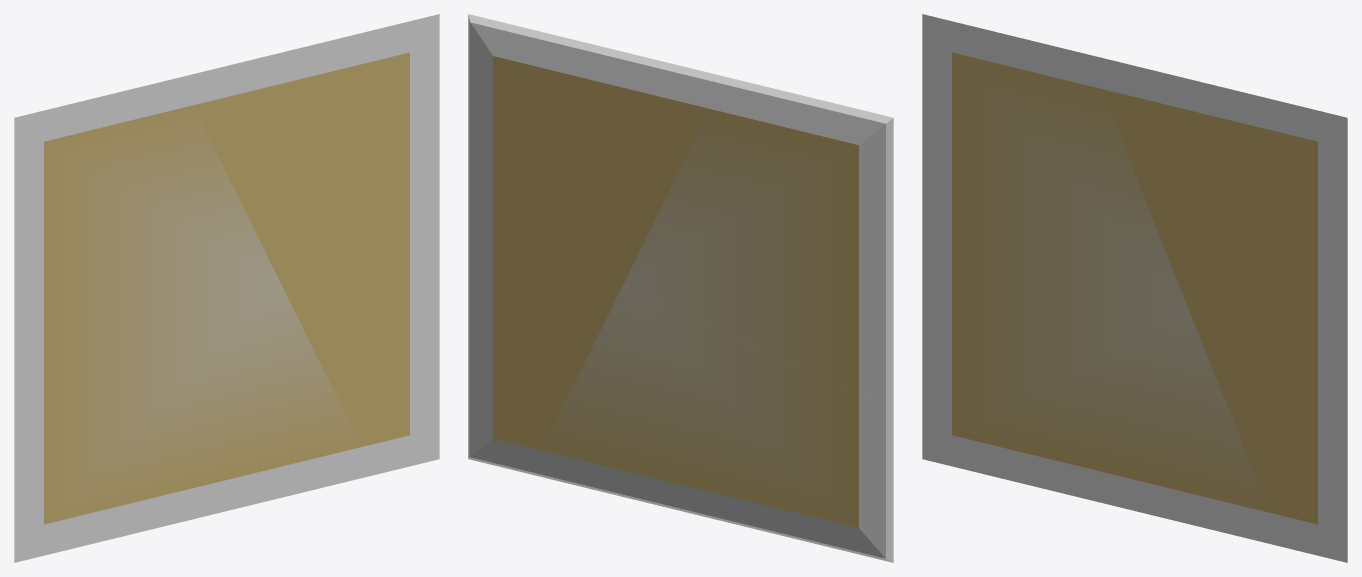
Rendered from SpaceBlockPieces.gltf.
The picture shows the model from 3 angles, left to right: view 1: azimuth 30°, elevation 25°; view 2: azimuth 150°, elevation 25°; view 3: azimuth 330°, elevation 25°; orthographic projection.
Parts seen in each view (by area): view 1: SpaceBlockPiece1, SpaceBlockPiece2, SpaceBlockPiece3; view 2: SpaceBlockPiece1, SpaceBlockPiece2, SpaceBlockPiece3; view 3: SpaceBlockPiece1, SpaceBlockPiece2, SpaceBlockPiece3.
Part boxes in pixels (x1=…): SpaceBlockPiece1: x1=179, y1=14, x2=439, y2=474; SpaceBlockPiece2: x1=14, y1=282, x2=375, y2=562; SpaceBlockPiece3: x1=14, y1=77, x2=279, y2=402; SpaceBlockPiece1: x1=468, y1=14, x2=728, y2=474; SpaceBlockPiece2: x1=532, y1=286, x2=893, y2=562; SpaceBlockPiece3: x1=623, y1=77, x2=893, y2=402; SpaceBlockPiece1: x1=1087, y1=54, x2=1347, y2=562; SpaceBlockPiece2: x1=922, y1=299, x2=1282, y2=546; SpaceBlockPiece3: x1=922, y1=14, x2=1187, y2=308.
Size of the model in its own units: 1 by 1 by 0.0201.
